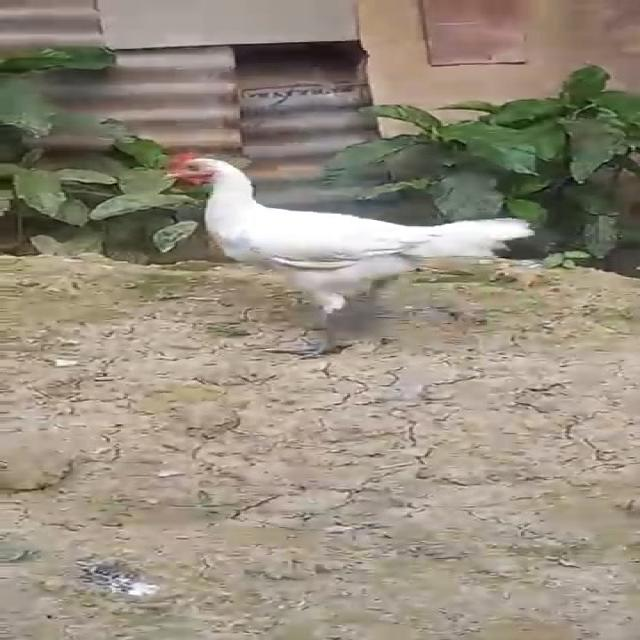walking: (149, 144, 537, 354)
